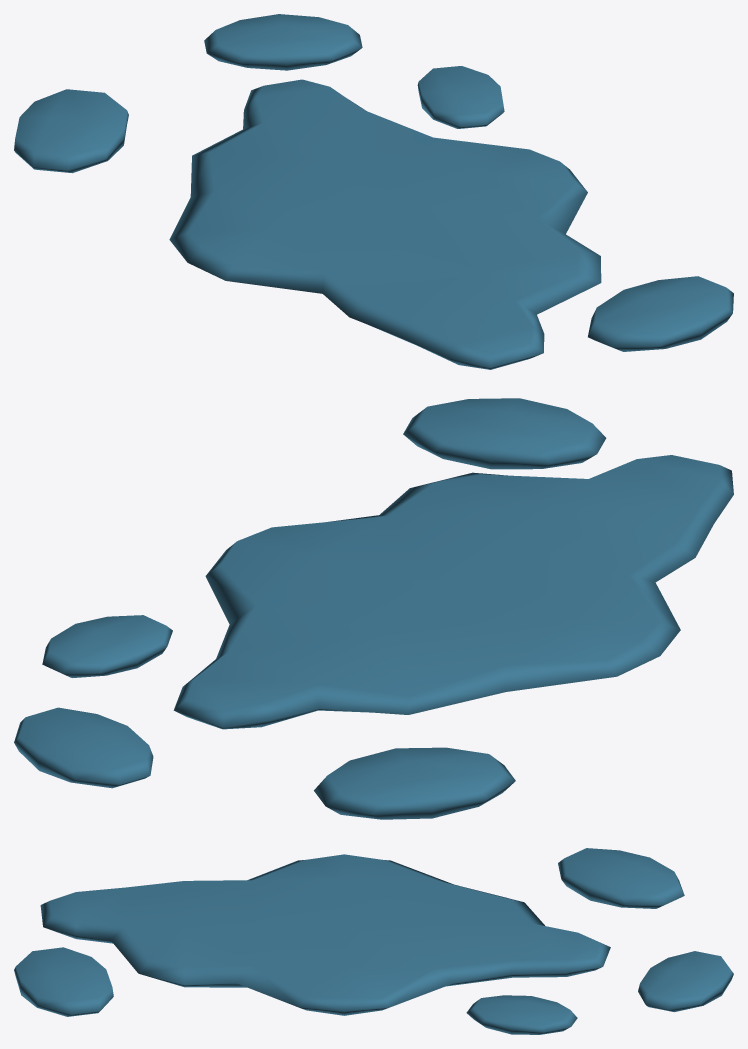
File: SM_Props_44.fbx
3 views of the same model, one above another, from view 1: azimuth 30°, elevation 25°; view 2: azimuth 150°, elevation 25°; view 3: azimuth 270°, elevation 25° (orthographic). The views are drawn at different scales.
Parts seen in each view (by area): view 1: SM_Props_44; view 2: SM_Props_44; view 3: SM_Props_44.
Boxes of the visible parts, x1,y1,x2,y2 form: SM_Props_44: [14, 14, 733, 369]; SM_Props_44: [14, 398, 733, 819]; SM_Props_44: [14, 848, 733, 1034].
Bounding box in the file's own units: 103 × 179 × 6.6.
Materials: 1 (1 with a texture image).
